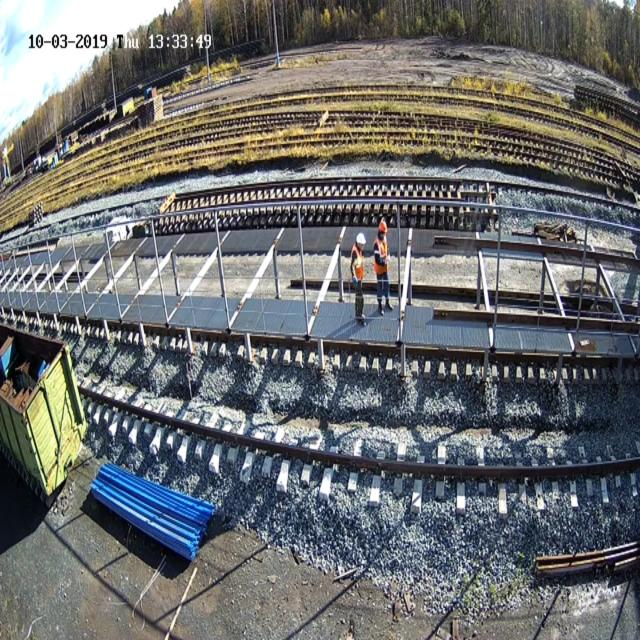Helmet: (378, 220, 388, 233), (356, 232, 366, 244)
Person: (373, 220, 394, 316), (350, 232, 366, 321)
